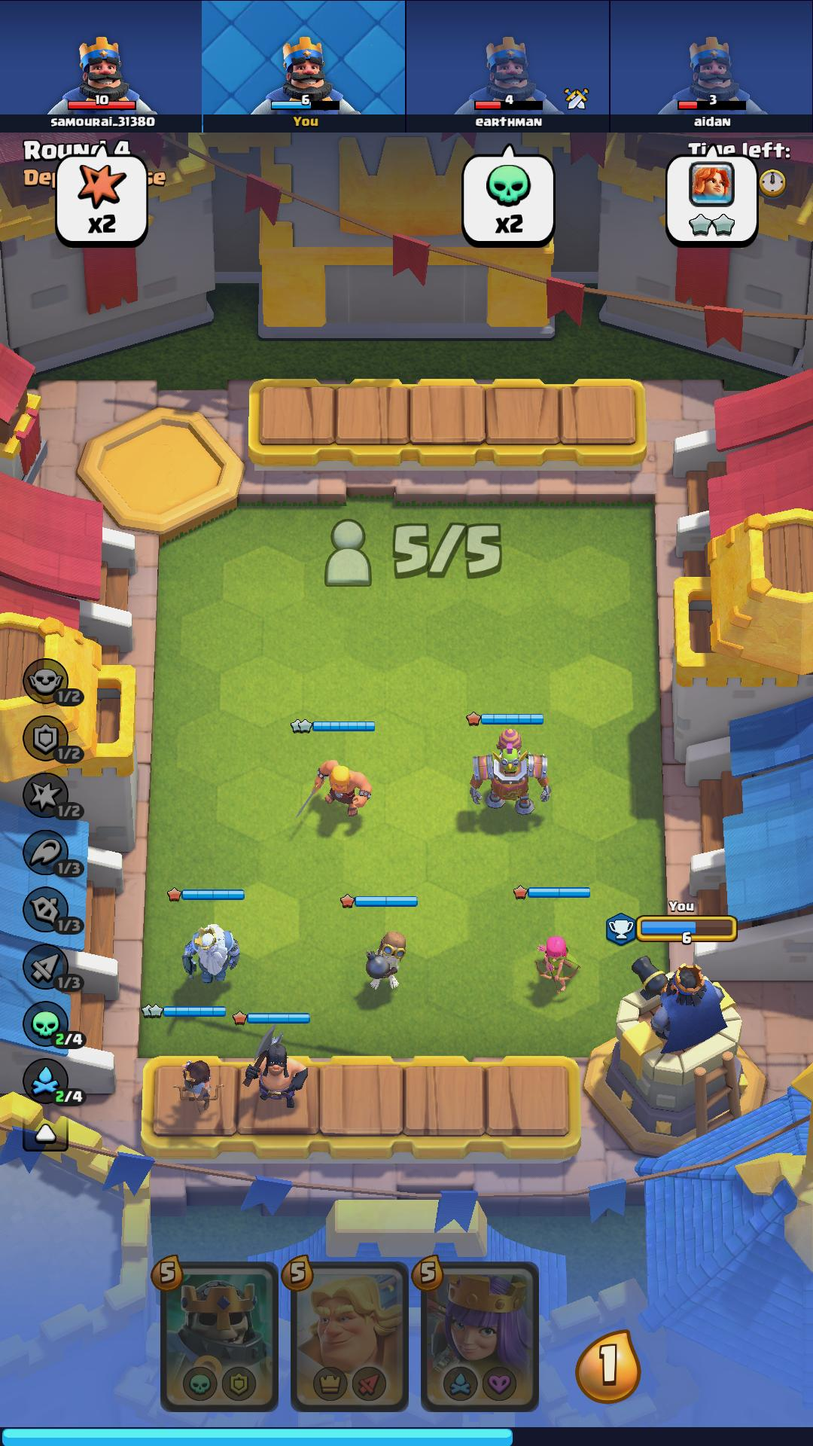archer: (523, 928, 582, 1007)
barbarian: (301, 744, 379, 825)
bomber: (351, 914, 418, 995)
executioner: (247, 1022, 314, 1117)
ghost: (171, 910, 248, 990)
hand-golden: (299, 1264, 401, 1408)
hand-king: (161, 1265, 277, 1402)
hand-queen: (429, 1264, 538, 1405)
machine: (455, 726, 567, 828)
princess: (161, 1042, 227, 1120)
